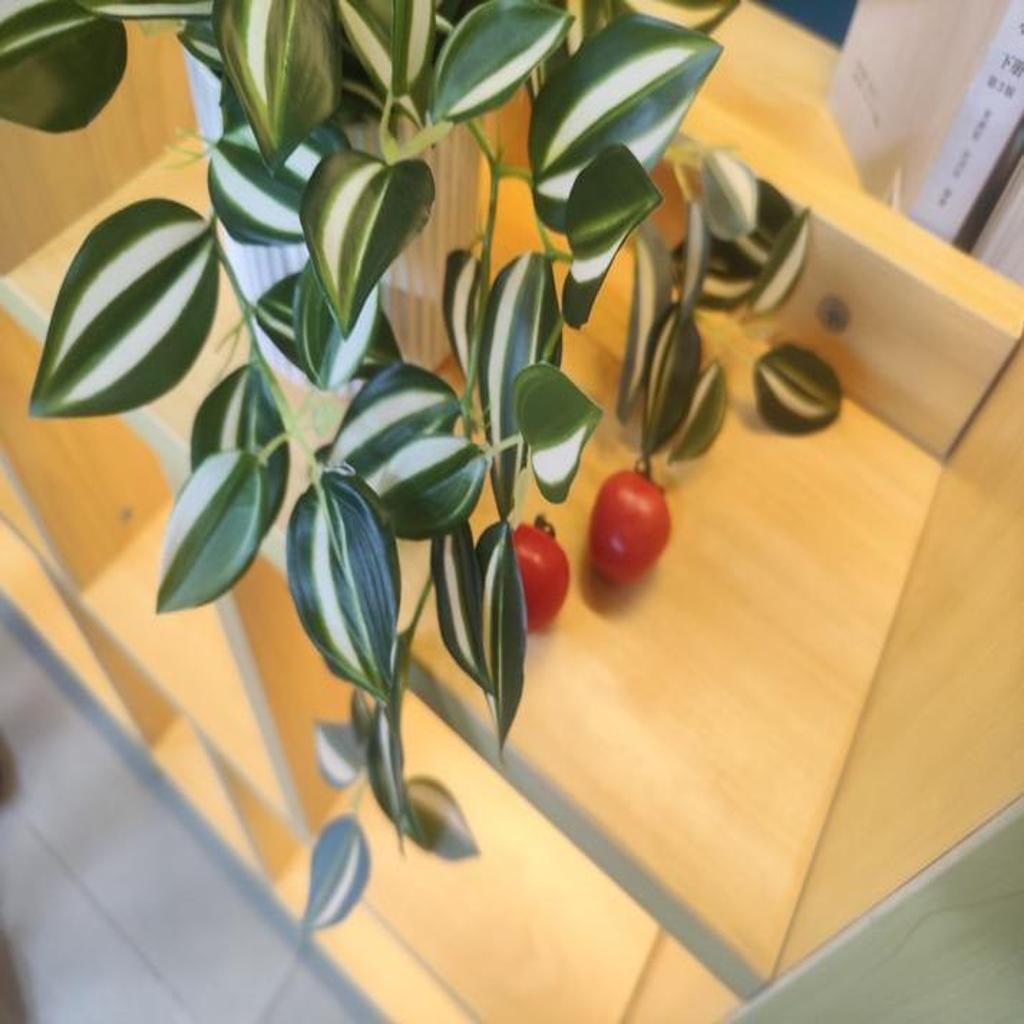tomato: (588, 463, 680, 594), (496, 521, 574, 634)
